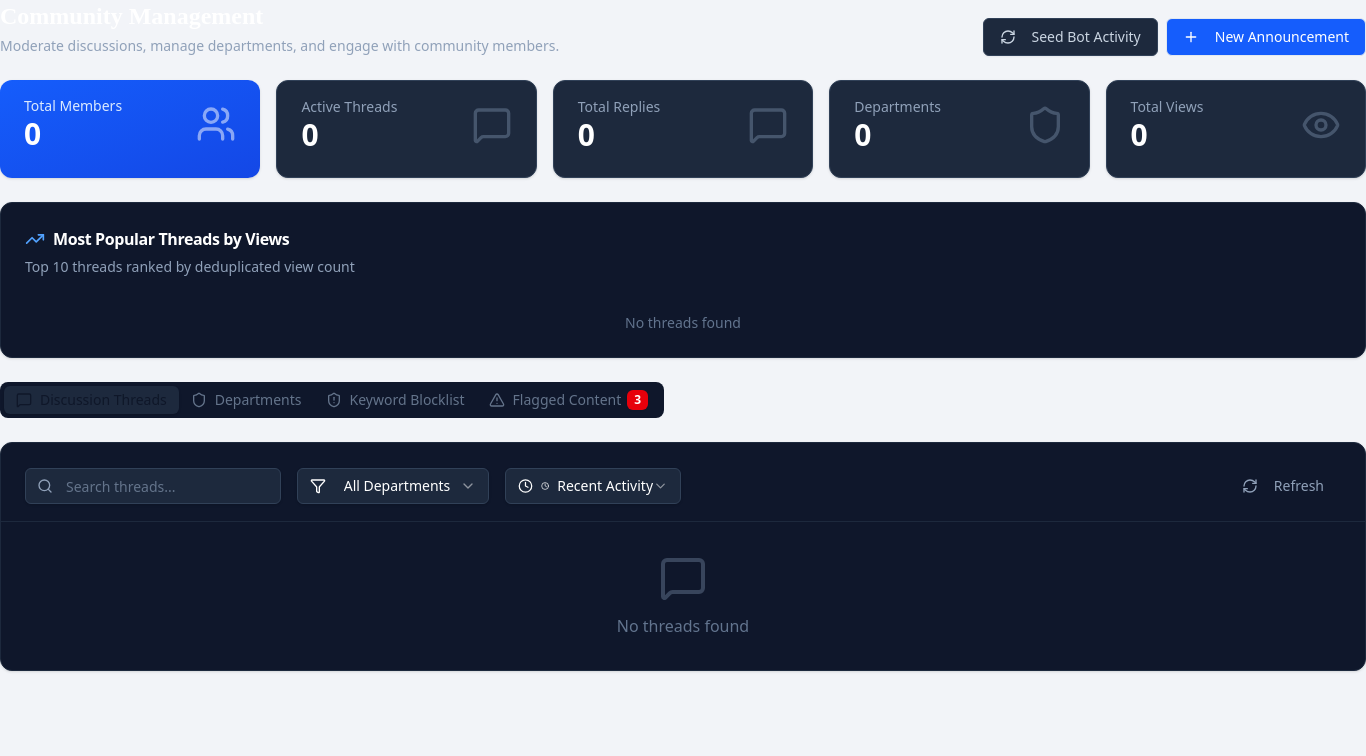
Test: CommunityManagement — select-all threads scoped to filtered set › select-all while author filter active selects only matching threads
Click the tab "Flagged Content 3" at x=568, y=400, box x1=476 y1=386 x2=660 y2=414
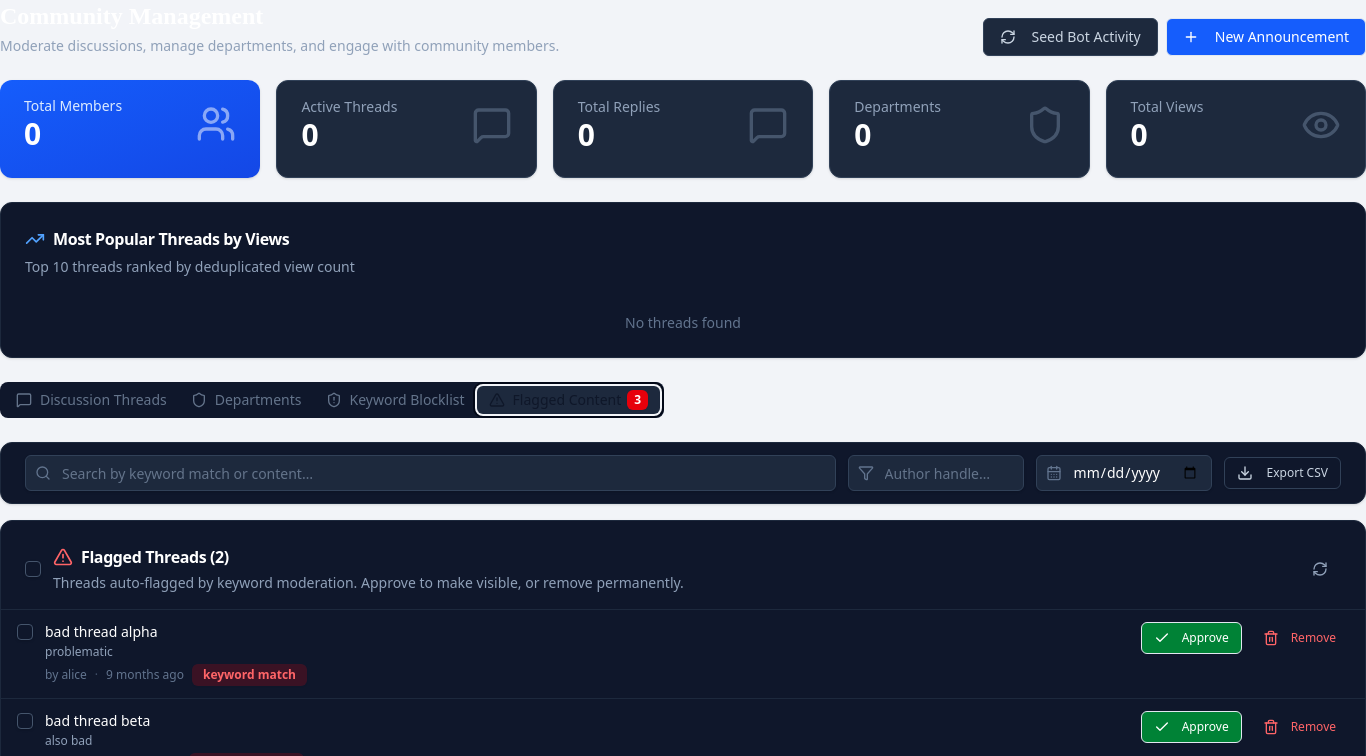
Type "alice" into the field with test id "input-flagged-author" at x=936, y=473, box x1=848 y1=455 x2=1024 y2=491
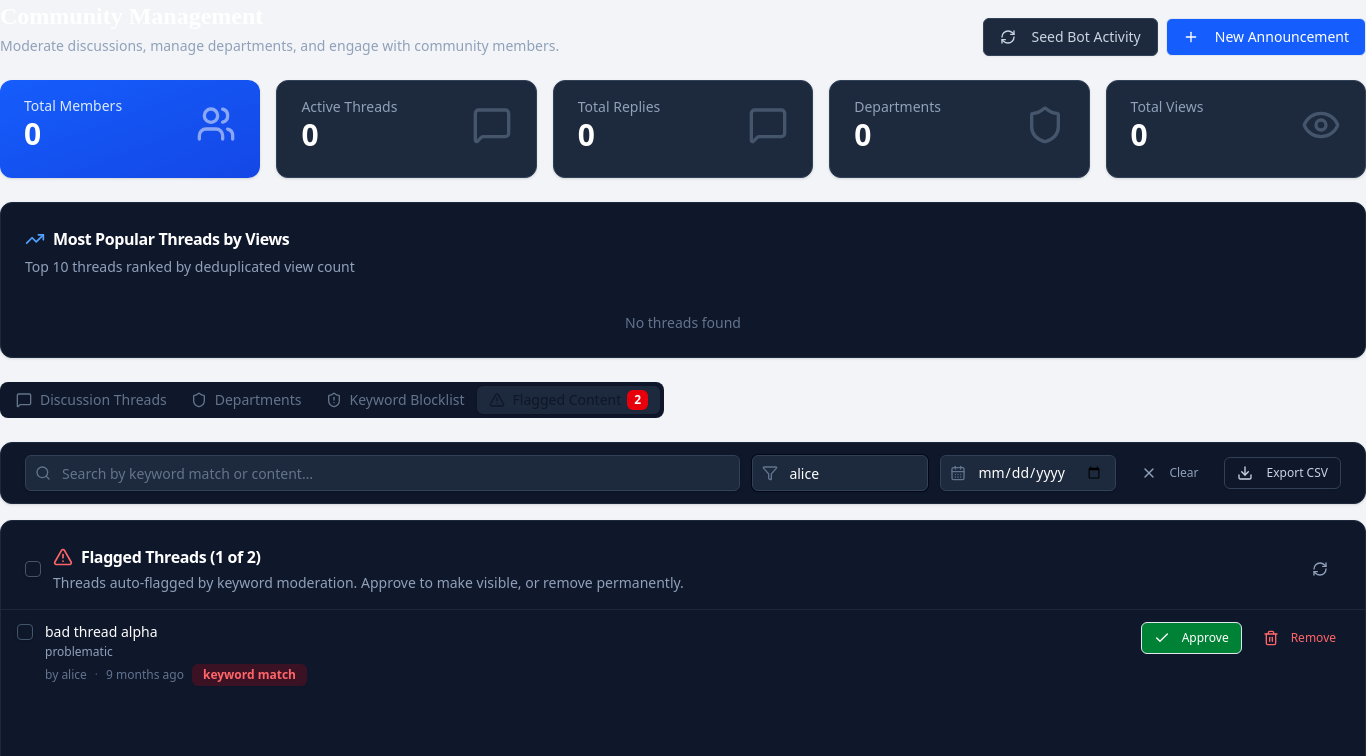
Click the checkbox with test id "checkbox-select-all-threads" at x=33, y=569, box x1=25 y1=561 x2=41 y2=577
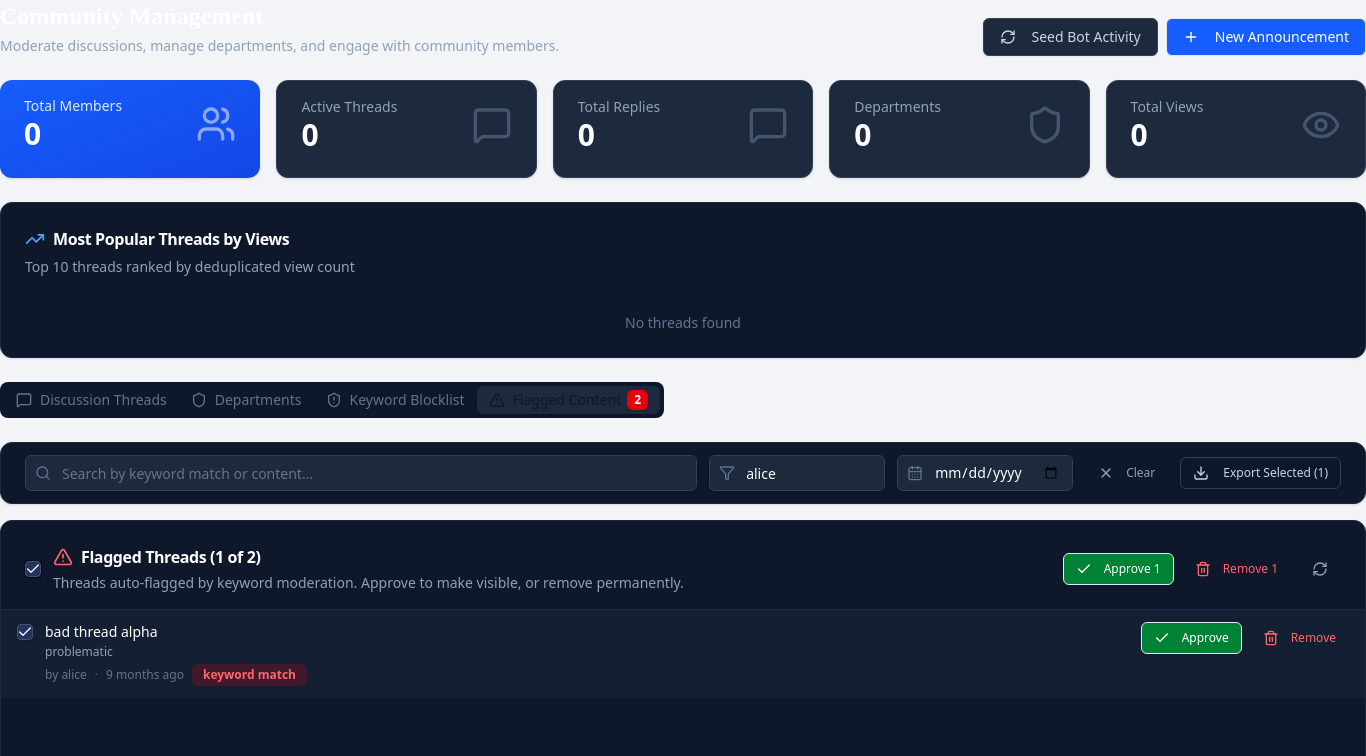
Check: the button with test id "button-bulk-approve-threads" shows "1", box x1=1063 y1=553 x2=1174 y2=585
